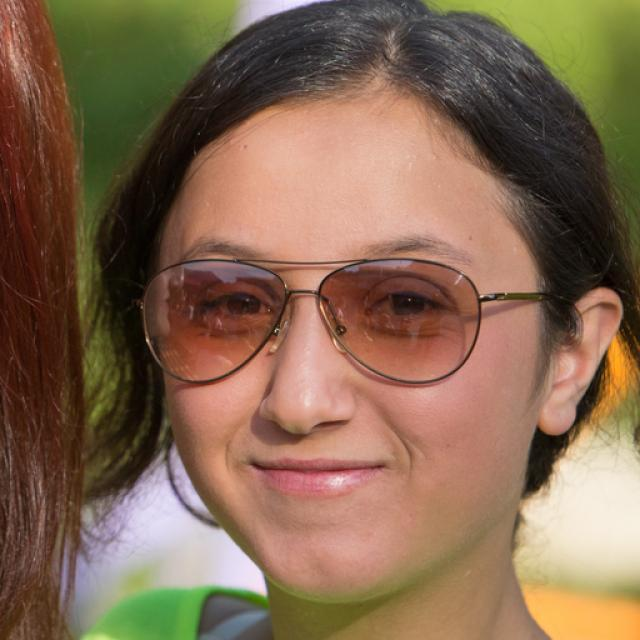happy: (148, 96, 544, 600)
